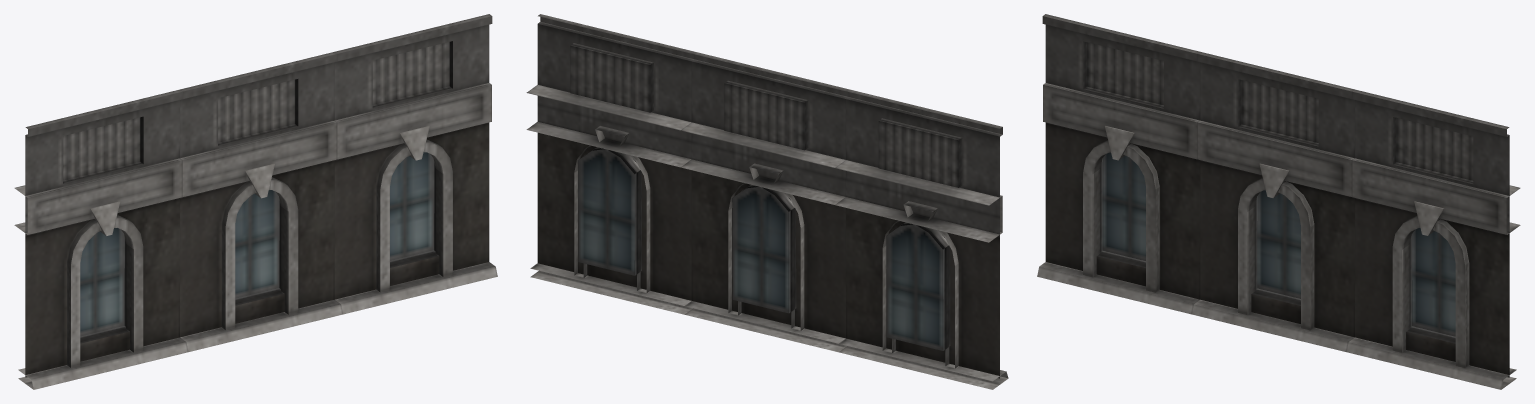
The model's file is B1_LastFloorWindow3x.FBX.
3 renders of one model, left to right at view 1: azimuth 30°, elevation 25°; view 2: azimuth 150°, elevation 25°; view 3: azimuth 330°, elevation 25°, orthographic.
Visible parts, largest first — view 1: B1_LastFloorWindow3x; view 2: B1_LastFloorWindow3x; view 3: B1_LastFloorWindow3x.
Part boxes in pixels (box(x1,y1,x2,y2)): B1_LastFloorWindow3x: box(14, 14, 497, 389); B1_LastFloorWindow3x: box(526, 14, 1008, 389); B1_LastFloorWindow3x: box(1037, 14, 1520, 389).
Bounding box in the file's own units: 12 × 6.34 × 0.8799.
